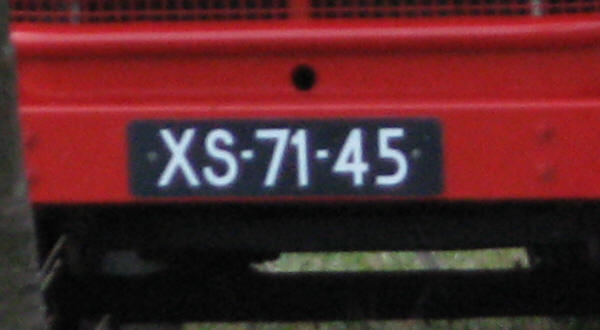license_plate: (126, 120, 443, 196)
